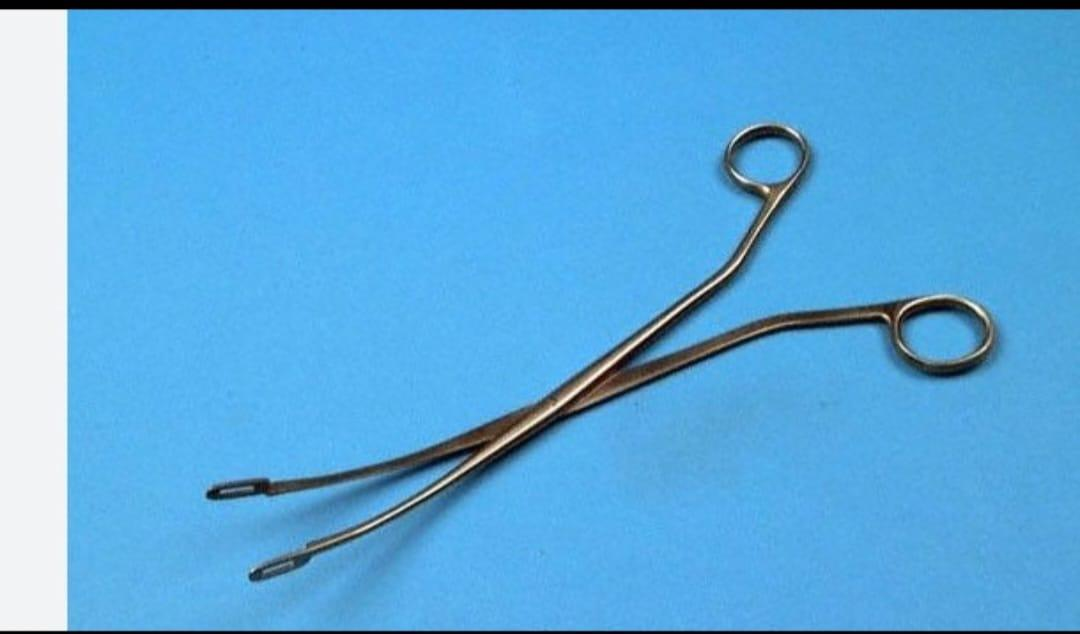Desjardin Forceps: (201, 108, 1008, 591)
